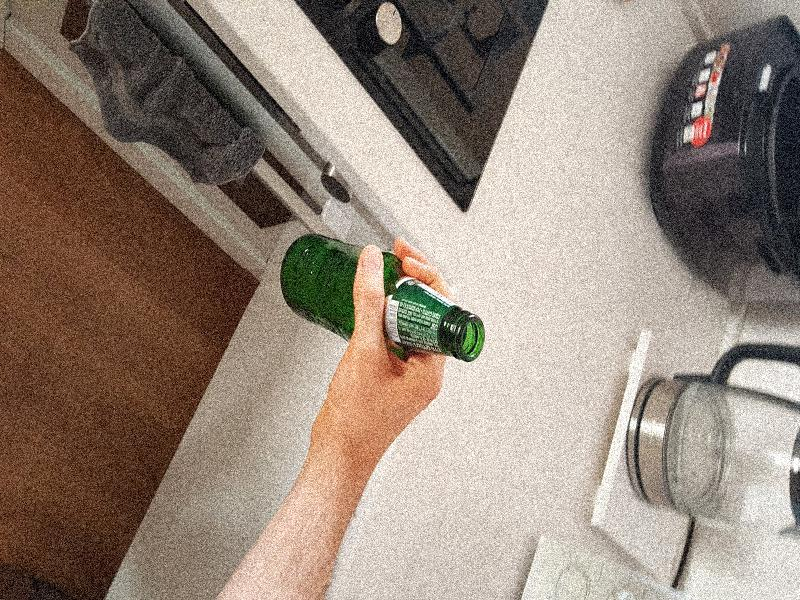Beer: (278, 233, 483, 362)
